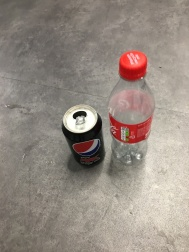bottle_red: (101, 41, 160, 182)
can_black: (53, 90, 108, 181)
